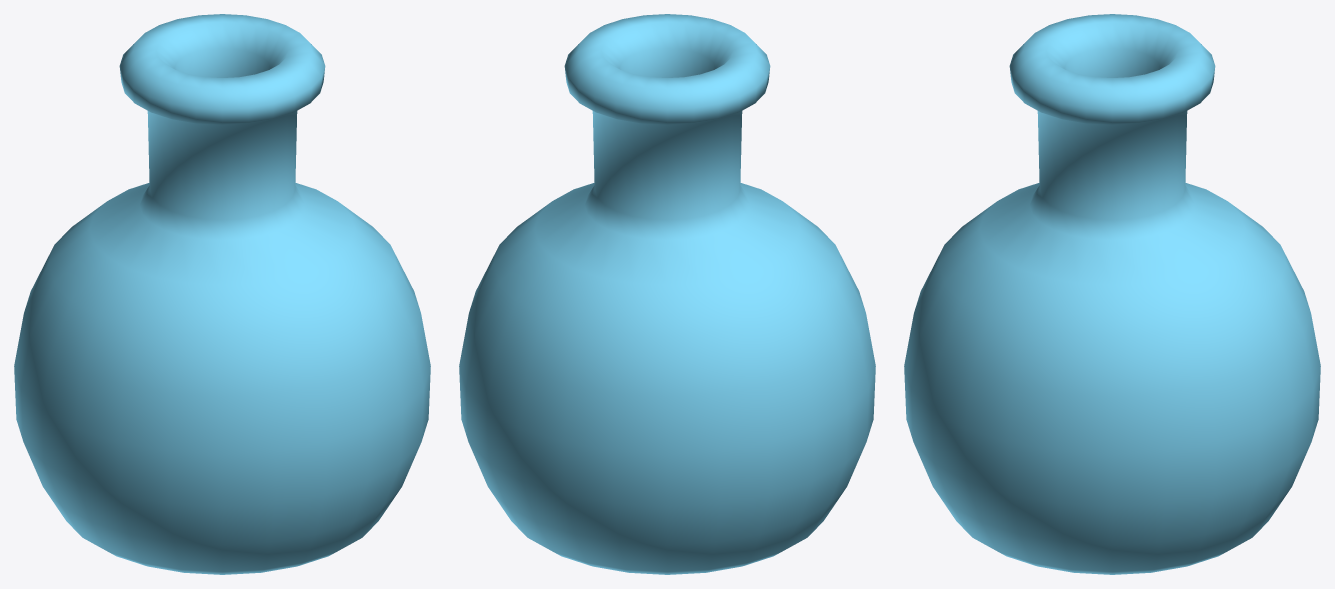
File: Flask, Flat Bottom, Short Neck.fbx
3 views of the same model, side by side, from view 1: azimuth 30°, elevation 25°; view 2: azimuth 150°, elevation 25°; view 3: azimuth 270°, elevation 25° (orthographic).
Visible parts, largest first — view 1: Flask, Flat Bottom, Short Neck_LOD0; view 2: Flask, Flat Bottom, Short Neck_LOD0; view 3: Flask, Flat Bottom, Short Neck_LOD0.
Part boxes in pixels (box(x1,y1,x2,y2)): Flask, Flat Bottom, Short Neck_LOD0: box(14, 14, 430, 574); Flask, Flat Bottom, Short Neck_LOD0: box(459, 14, 875, 574); Flask, Flat Bottom, Short Neck_LOD0: box(904, 14, 1320, 574).
Size of what is drawn, in the model's own units: 0.4439 by 0.544 by 0.4439.
